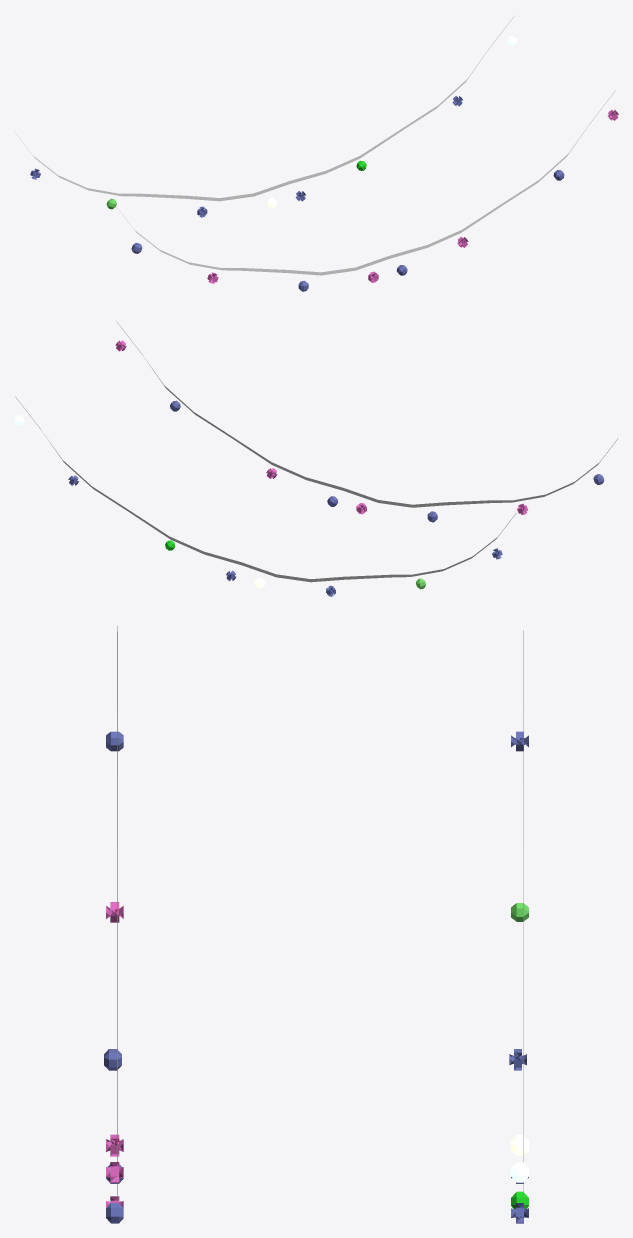
File: String Lights.fbx
The picture shows the model from 3 angles, top to bottom: view 1: azimuth 30°, elevation 25°; view 2: azimuth 150°, elevation 25°; view 3: azimuth 270°, elevation 25°; orthographic projection. The views are drawn at different scales.
Parts seen in each view (by area): view 1: Cylinder.001, Cylinder; view 2: Cylinder.001, Cylinder; view 3: no part large enough to name.
Part boxes in pixels (x1,y1,x2,y2): Cylinder.001: (15,15,514,201); Cylinder: (116,89,616,275); Cylinder.001: (15,396,516,582); Cylinder: (116,321,617,507).
Bounding box in the file's own units: 394 × 104 × 144.
